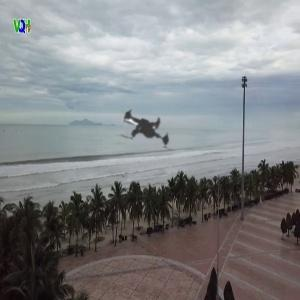drone: (96, 73, 200, 177)
